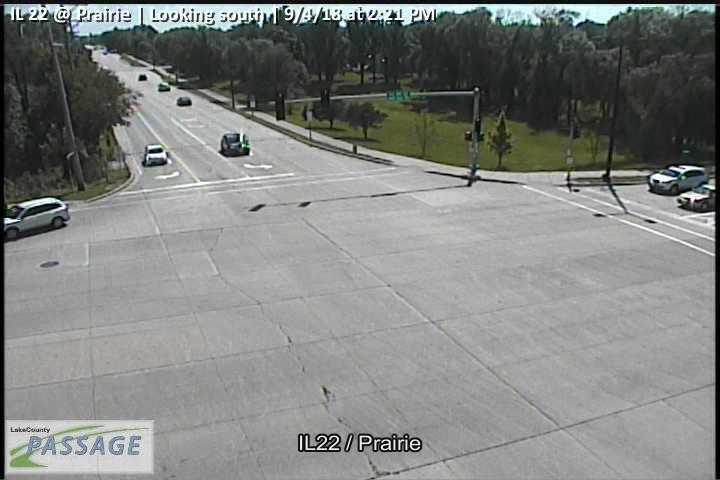SUV: (1, 197, 71, 239), (647, 164, 708, 193)
Sedan: (676, 184, 716, 210), (143, 144, 168, 166)
Truck: (221, 132, 251, 155)
